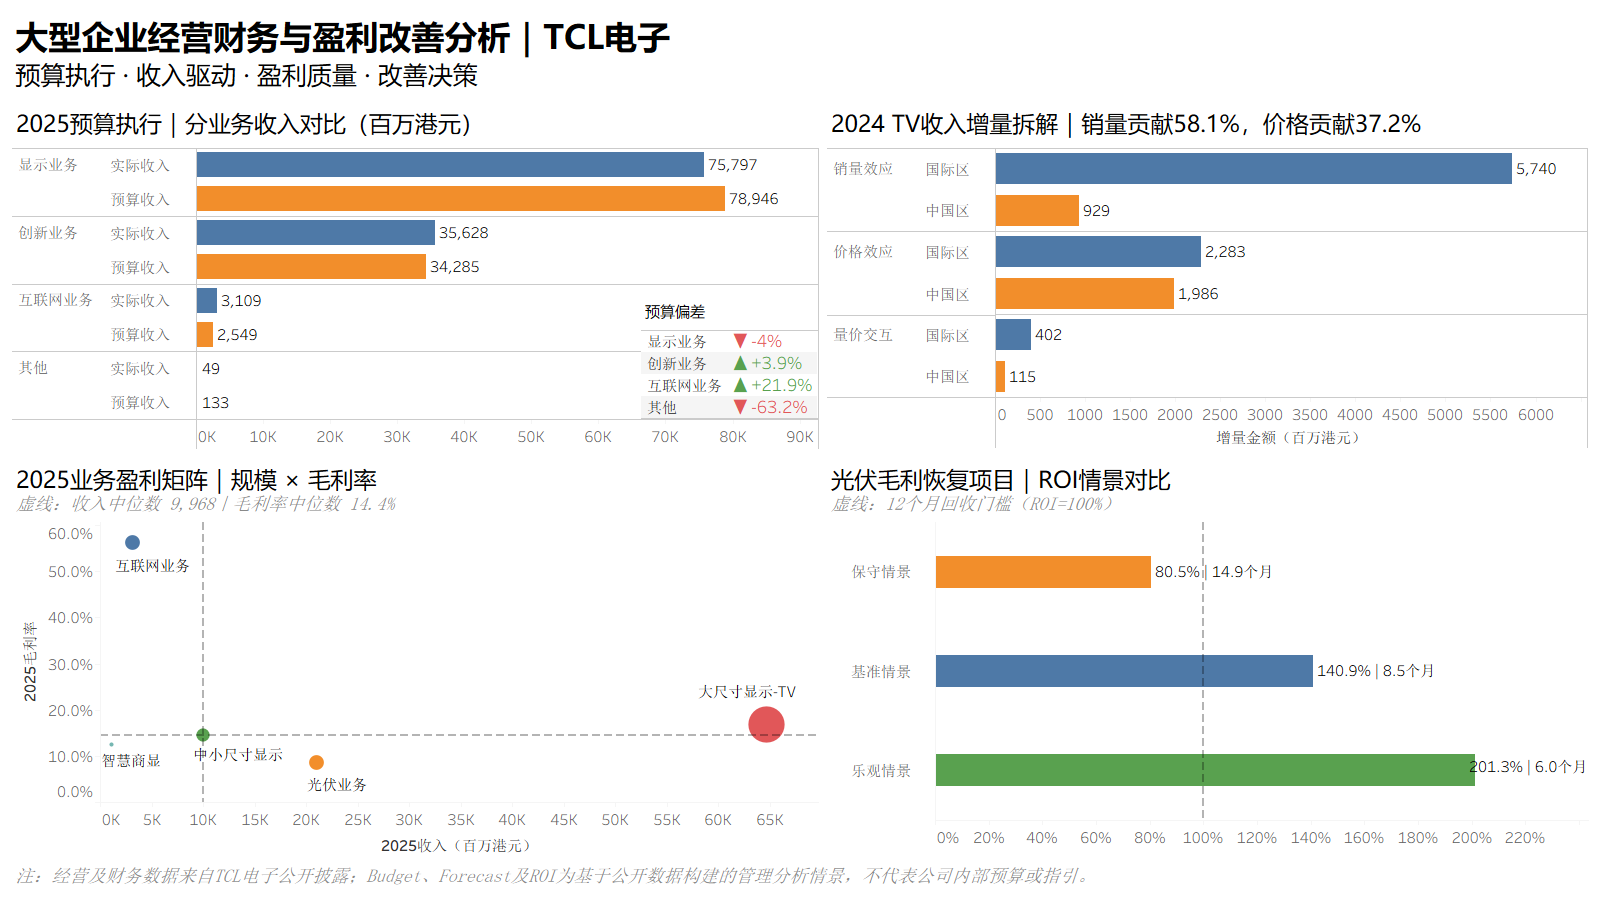

What the dashboard file says about the page in this screenshot:
{"tool":"tableau","page":{"name":"CASE2_经营财务分析看板","canvas":[1600,900],"ordinal":0},"visuals":[{"type":"text","box":[8,8,1584,90]},{"type":"worksheet","title":"01执行预算对比","mark":"Automatic","rows":["业务"],"box":[8,98,815,356]},{"type":"worksheet","title":"02_TV收入驱动拆解","mark":"Bar","rows":["效应类型","市场"],"cols":["增量金额(HK$m)"],"box":[823,98,769,356]},{"type":"worksheet","title":"01_预算偏差标签","mark":"Automatic","rows":["业务"],"box":[641,295,178,125]},{"type":"worksheet","title":"03_业务盈利矩阵","mark":"Circle","rows":["2025毛利率"],"cols":["2025收入(HK$m)"],"box":[8,454,815,406]},{"type":"worksheet","title":"04_ROI情景对比","mark":"Bar","rows":["情景"],"cols":["ROI"],"box":[823,454,769,406]},{"type":"text","box":[8,860,1584,32]}]}

Visuals, with their boxes in screenshot pixels (x1, y1, x2, y2), scaled from the page's 1600x900 canvas onto the 1600x900 screenshot:
text: {"x1": 8, "y1": 8, "x2": 1592, "y2": 98}
"01执行预算对比" worksheet: {"x1": 8, "y1": 98, "x2": 823, "y2": 454}
"02_TV收入驱动拆解" worksheet (Bar marks): {"x1": 823, "y1": 98, "x2": 1592, "y2": 454}
"01_预算偏差标签" worksheet: {"x1": 641, "y1": 295, "x2": 819, "y2": 420}
"03_业务盈利矩阵" worksheet (Circle marks): {"x1": 8, "y1": 454, "x2": 823, "y2": 860}
"04_ROI情景对比" worksheet (Bar marks): {"x1": 823, "y1": 454, "x2": 1592, "y2": 860}
text: {"x1": 8, "y1": 860, "x2": 1592, "y2": 892}
